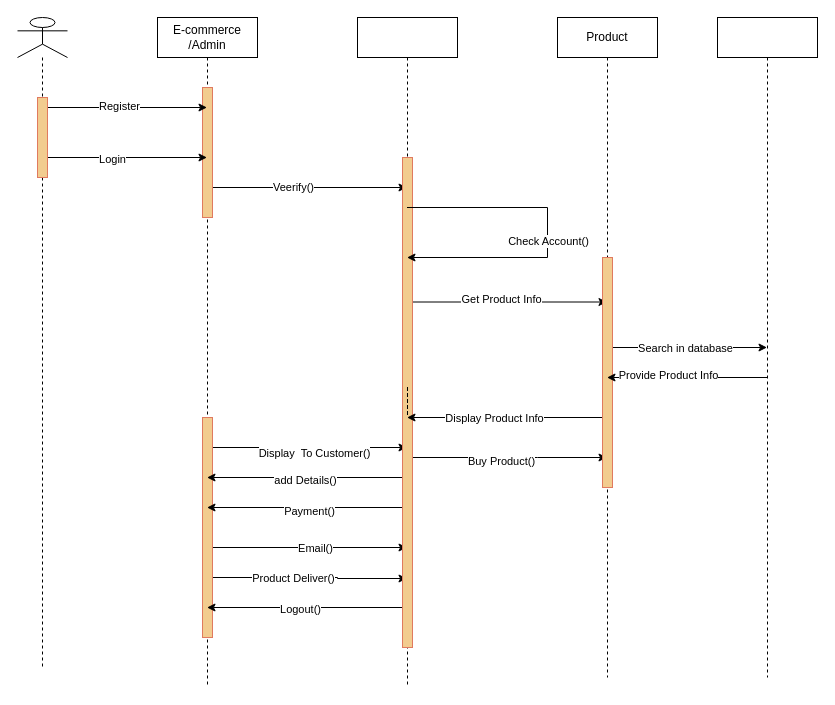
Some shapes in this 835 by 705 pixel diagram are drawn without their labels. Each missing label, with the box of its shape:
Customer: (356, 16, 458, 688)
Database: (716, 16, 818, 678)
